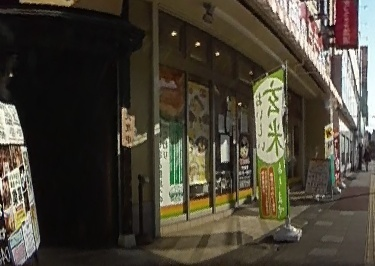person: (363, 147, 371, 169)
